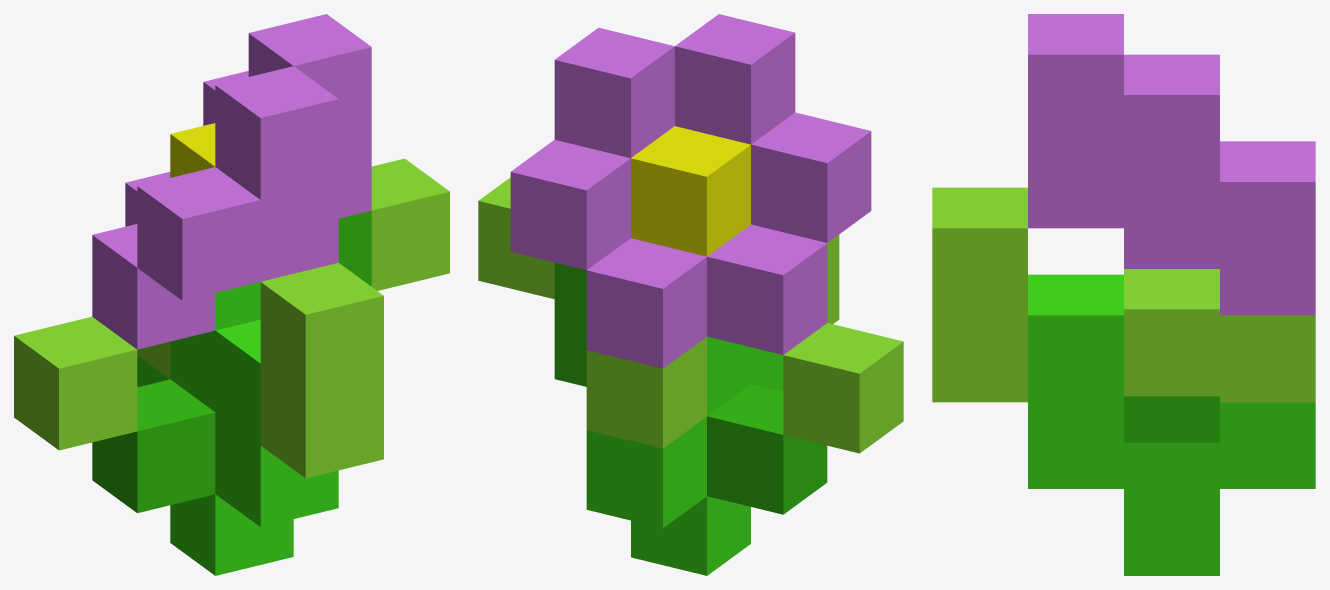
The model's file is tile-57.obj.
3 renders of one model, left to right at view 1: azimuth 30°, elevation 25°; view 2: azimuth 150°, elevation 25°; view 3: azimuth 270°, elevation 25°, orthographic. The views are drawn at different scales.
Bounding box in the file's own units: 0.5 × 0.6 × 0.4.
Materials: 1 (1 with a texture image).
